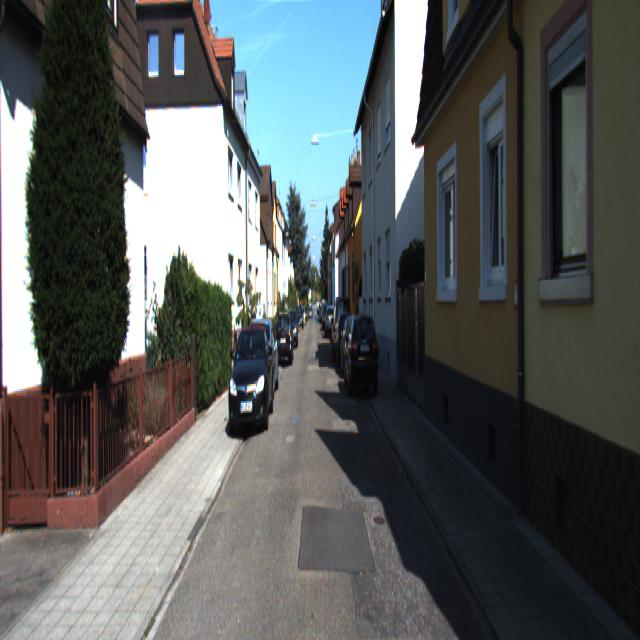Car: (228, 317, 273, 431), (344, 306, 380, 397), (244, 312, 280, 403), (274, 311, 293, 367), (326, 306, 337, 340)
